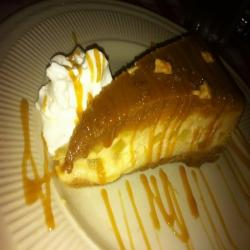apple_pie: (58, 33, 246, 193)
icecream: (29, 45, 117, 151)
